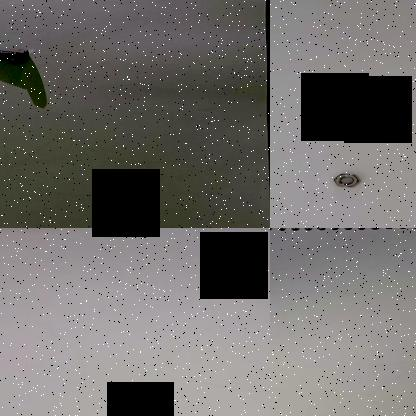Bolts: (0, 42, 30, 66)
NUTS: (330, 173, 364, 190)
